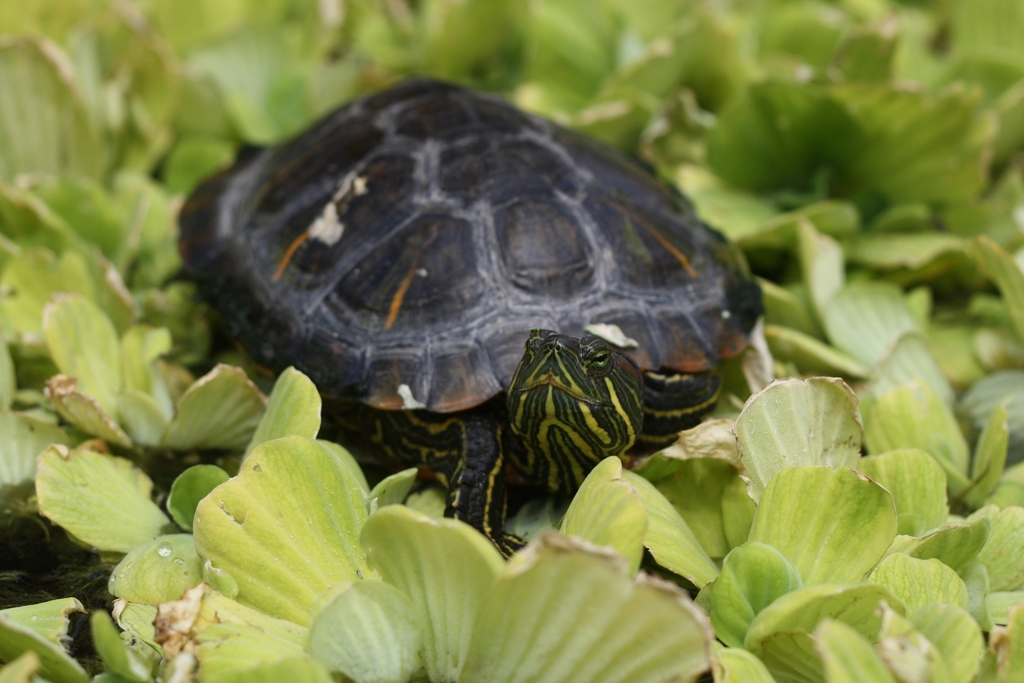Sea turtles: (175, 76, 772, 577)
